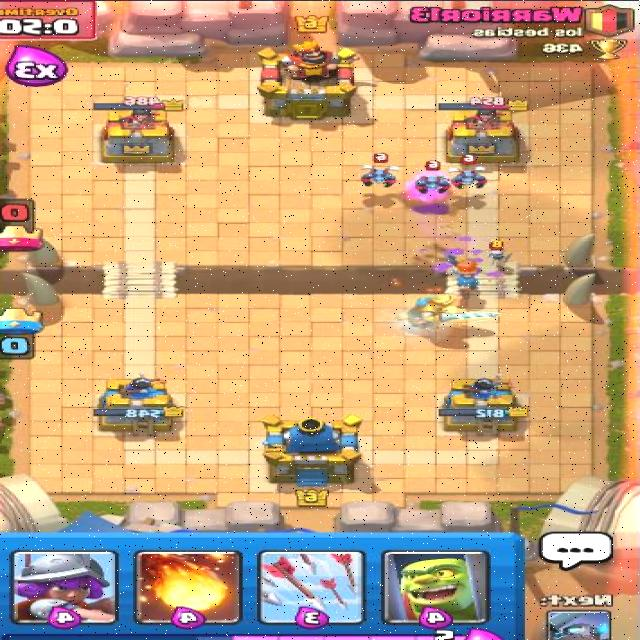Enemy-Minion: (446, 153, 492, 190), (358, 152, 401, 188), (412, 159, 453, 195)
Enemy-Skeleton: (484, 239, 516, 267)
Player-Prince: (394, 292, 505, 336)
Player-Valkyrie: (446, 253, 485, 291)
